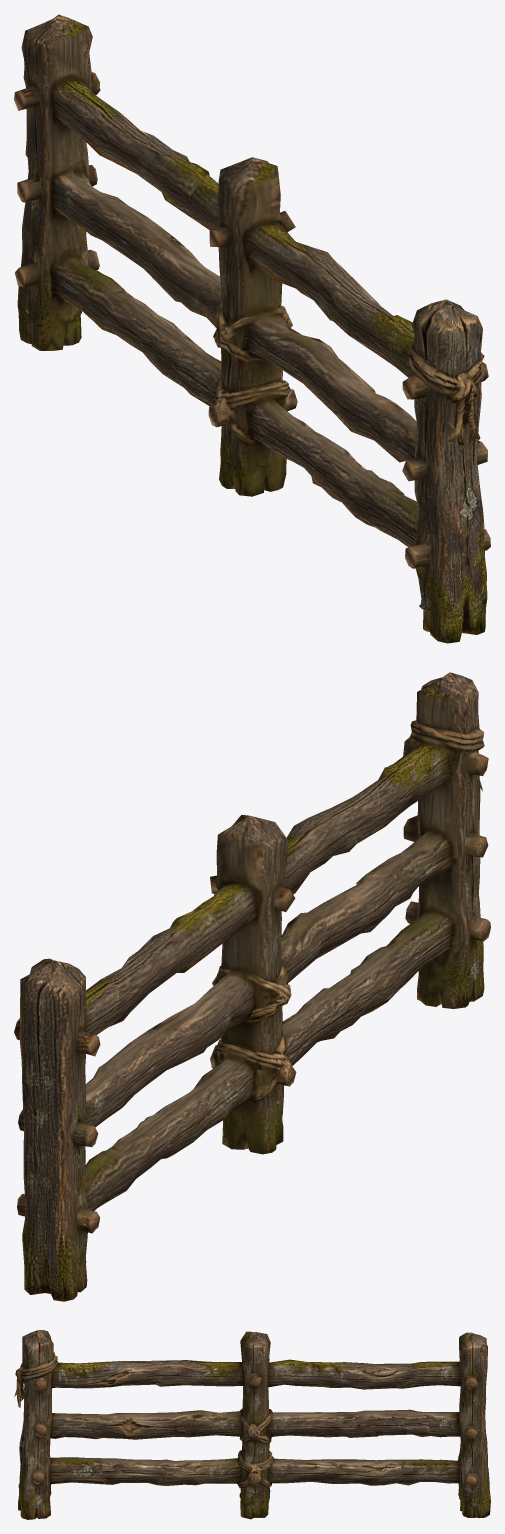
The model's file is fence.glb.
3 views of the same model, one above another, from view 1: azimuth 30°, elevation 25°; view 2: azimuth 150°, elevation 25°; view 3: azimuth 270°, elevation 25° (orthographic). The views are drawn at different scales.
Parts seen in each view (by area): view 1: tripo_node_50249203-7271-4e80-9140-dbf70daf7a59; view 2: tripo_node_50249203-7271-4e80-9140-dbf70daf7a59; view 3: tripo_node_50249203-7271-4e80-9140-dbf70daf7a59.
Boxes of the visible parts, <box> form: tripo_node_50249203-7271-4e80-9140-dbf70daf7a59: <box>14,14,490,643</box>; tripo_node_50249203-7271-4e80-9140-dbf70daf7a59: <box>14,672,490,1301</box>; tripo_node_50249203-7271-4e80-9140-dbf70daf7a59: <box>14,1330,490,1519</box>.
Bounding box in the file's own units: 0.1038 × 0.4112 × 0.9779.
1 material, 1 textured.
